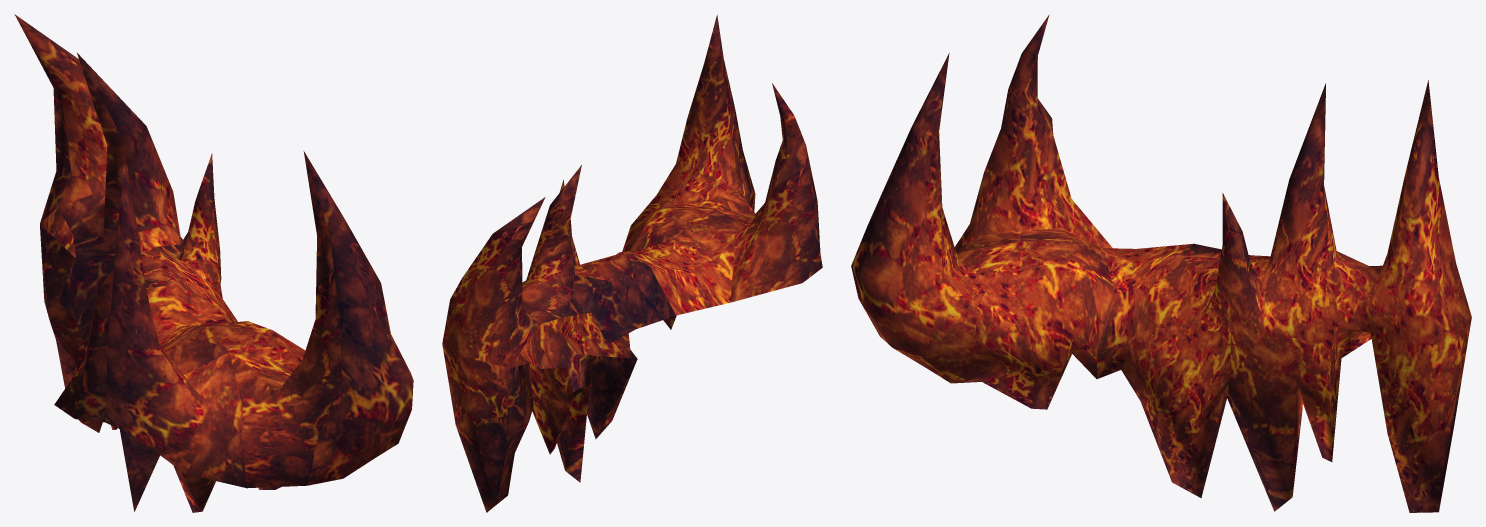
File: Scene_rongyan_011.FBX
3 views of the same model, side by side, from view 1: azimuth 30°, elevation 25°; view 2: azimuth 150°, elevation 25°; view 3: azimuth 270°, elevation 25° (orthographic). The views are drawn at different scales.
Parts seen in each view (by area): view 1: Scene_rongyan_011; view 2: Scene_rongyan_011; view 3: Scene_rongyan_011.
Boxes of the visible parts, box(x1,y1,x2,y2) form: Scene_rongyan_011: box(14, 14, 413, 512); Scene_rongyan_011: box(442, 14, 822, 512); Scene_rongyan_011: box(851, 14, 1471, 512).
Size of the model in its own units: 4.1 by 6.76 by 8.32.
